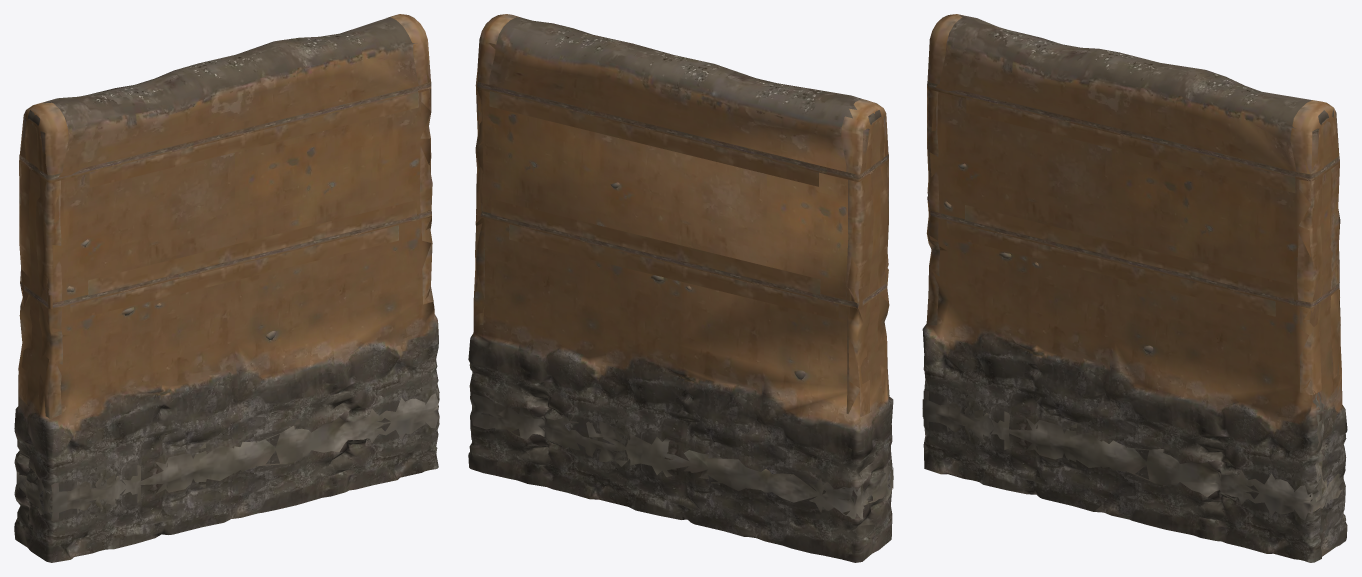
Rendered from adobewall_prefab.glb.
3 renders of one model, left to right at view 1: azimuth 30°, elevation 25°; view 2: azimuth 150°, elevation 25°; view 3: azimuth 330°, elevation 25°, orthographic.
Visible parts, largest first — view 1: wall.external.high.adobe_LOD0; view 2: wall.external.high.adobe_LOD0; view 3: wall.external.high.adobe_LOD0.
Boxes of the visible parts, box(x1,y1,x2,y2) form: wall.external.high.adobe_LOD0: box(14, 14, 439, 562); wall.external.high.adobe_LOD0: box(468, 14, 893, 562); wall.external.high.adobe_LOD0: box(922, 14, 1347, 562).
Size of the model in its own units: 6.47 by 6.93 by 1.17.
4 materials, 4 textured.
